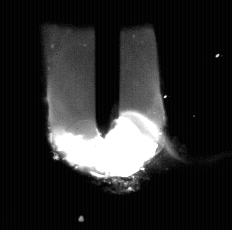arame: (96, 0, 123, 138)
poca: (54, 0, 161, 230)
